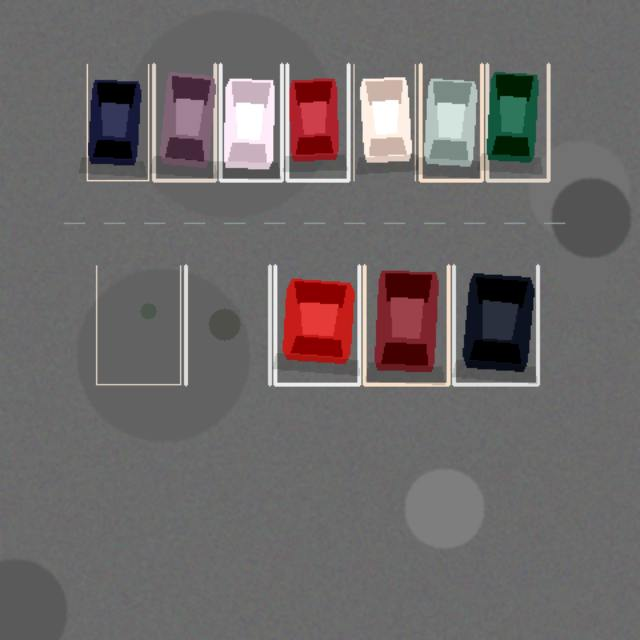space-empty: (96, 265, 180, 384), (185, 265, 269, 384)
space-occupied: (275, 265, 359, 384), (364, 265, 448, 384), (453, 265, 537, 384), (153, 64, 215, 180), (353, 64, 415, 180), (87, 64, 148, 180), (220, 64, 281, 180), (287, 64, 348, 180), (420, 64, 481, 180), (487, 64, 548, 180)
